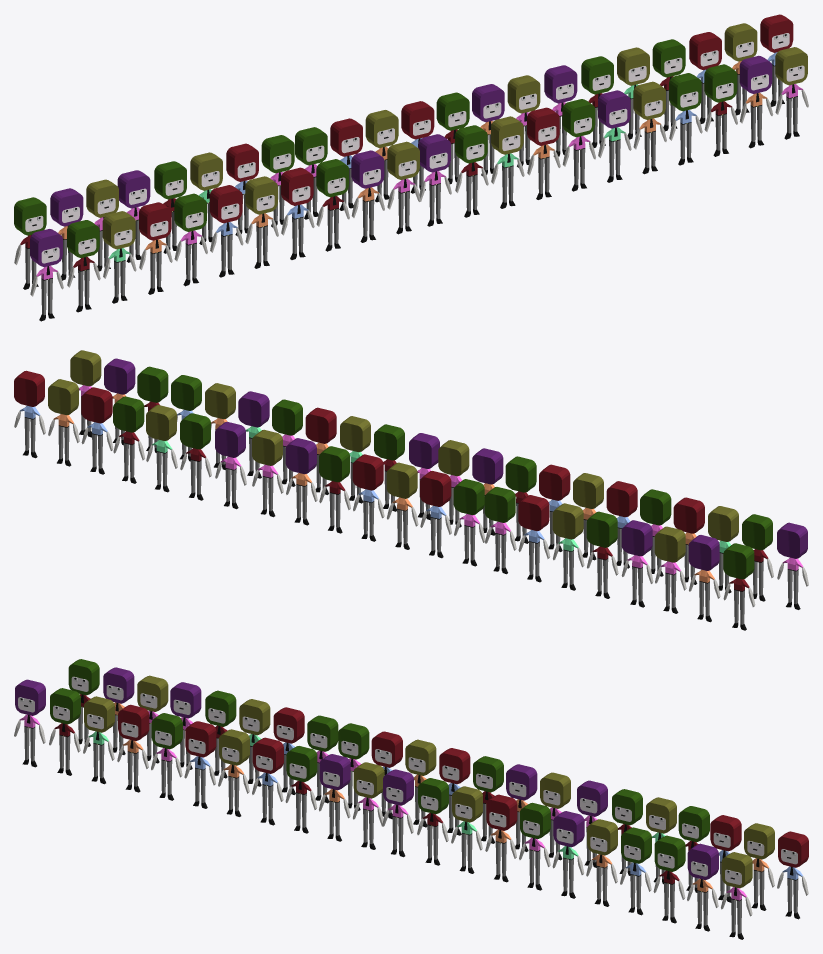
Rendered from human.fbx.
3 views of the same model, one above another, from view 1: azimuth 30°, elevation 25°; view 2: azimuth 150°, elevation 25°; view 3: azimuth 330°, elevation 25° (orthographic). The views are drawn at different scales.
Parts seen in each view (by area): view 1: Cube.089, Cube.060, Cube.059, Cube.076, Cube.007, Cube.028, Cube.036, Cube.043, Cube.044, Cube.052, Cube.091, Cube.081 (+32 smaller); view 2: Cube.198, Cube.124, Cube.142, Cube.129, Cube.128, Cube.111, Cube.102, Cube.199, Cube.168, Cube.116, Cube.141, Cube.154 (+32 smaller); view 3: Cube.007, Cube.091, Cube.036, Cube.098, Cube.076, Cube.089, Cube.018, Cube.010, Cube.067, Cube.051, Cube.081, Cube.060 (+32 smaller).
Part boxes in pixels (<box>): Cube.089: <box>209,185,243,277</box>; Cube.060: <box>102,211,136,303</box>; Cube.059: <box>67,220,100,312</box>; Cube.076: <box>281,167,314,259</box>; Cube.007: <box>527,107,560,199</box>; Cube.028: <box>669,73,702,165</box>; Cube.036: <box>739,55,773,148</box>; Cube.043: <box>491,116,524,208</box>; Cube.044: <box>455,125,488,217</box>; Cube.052: <box>30,229,63,321</box>; Cube.091: <box>139,202,172,294</box>; Cube.081: <box>245,176,278,268</box>; Cube.198: <box>654,526,686,613</box>; Cube.124: <box>420,471,451,558</box>; Cube.142: <box>586,511,618,598</box>; Cube.129: <box>484,487,516,574</box>; Cube.128: <box>453,479,485,566</box>; Cube.111: <box>352,454,384,541</box>; Cube.102: <box>285,438,317,525</box>; Cube.199: <box>113,396,144,483</box>; Cube.168: <box>180,413,211,500</box>; Cube.116: <box>386,462,418,549</box>; Cube.141: <box>552,503,584,590</box>; Cube.154: <box>14,370,45,458</box>; Cube.007: <box>485,794,517,882</box>; Cube.091: <box>117,704,149,792</box>; Cube.036: <box>687,843,718,931</box>; Cube.098: <box>151,713,182,800</box>; Cube.076: <box>252,737,283,825</box>; Cube.089: <box>184,721,216,808</box>; Cube.018: <box>721,852,752,939</box>; Cube.010: <box>552,811,584,898</box>; Cube.067: <box>319,754,350,841</box>; Cube.051: <box>382,769,413,857</box>; Cube.081: <box>218,729,249,816</box>; Cube.060: <box>83,696,114,784</box>.
Size of the model in its own units: 1476 by 151 by 154.
